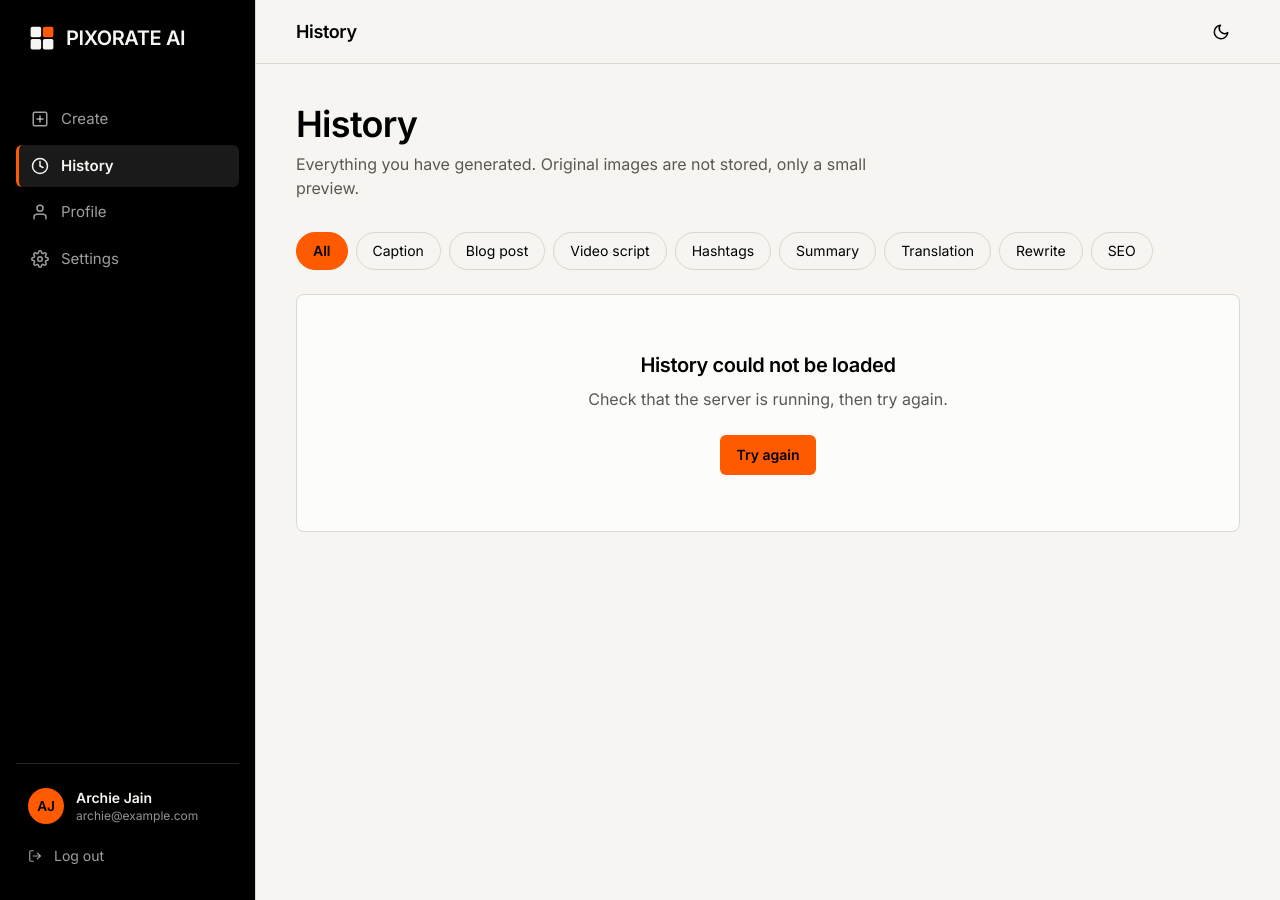
Test: history › a failed load offers a retry
The image size is (1280, 900).
Click the button "Try again": x=768, y=455 [720, 435, 816, 475]
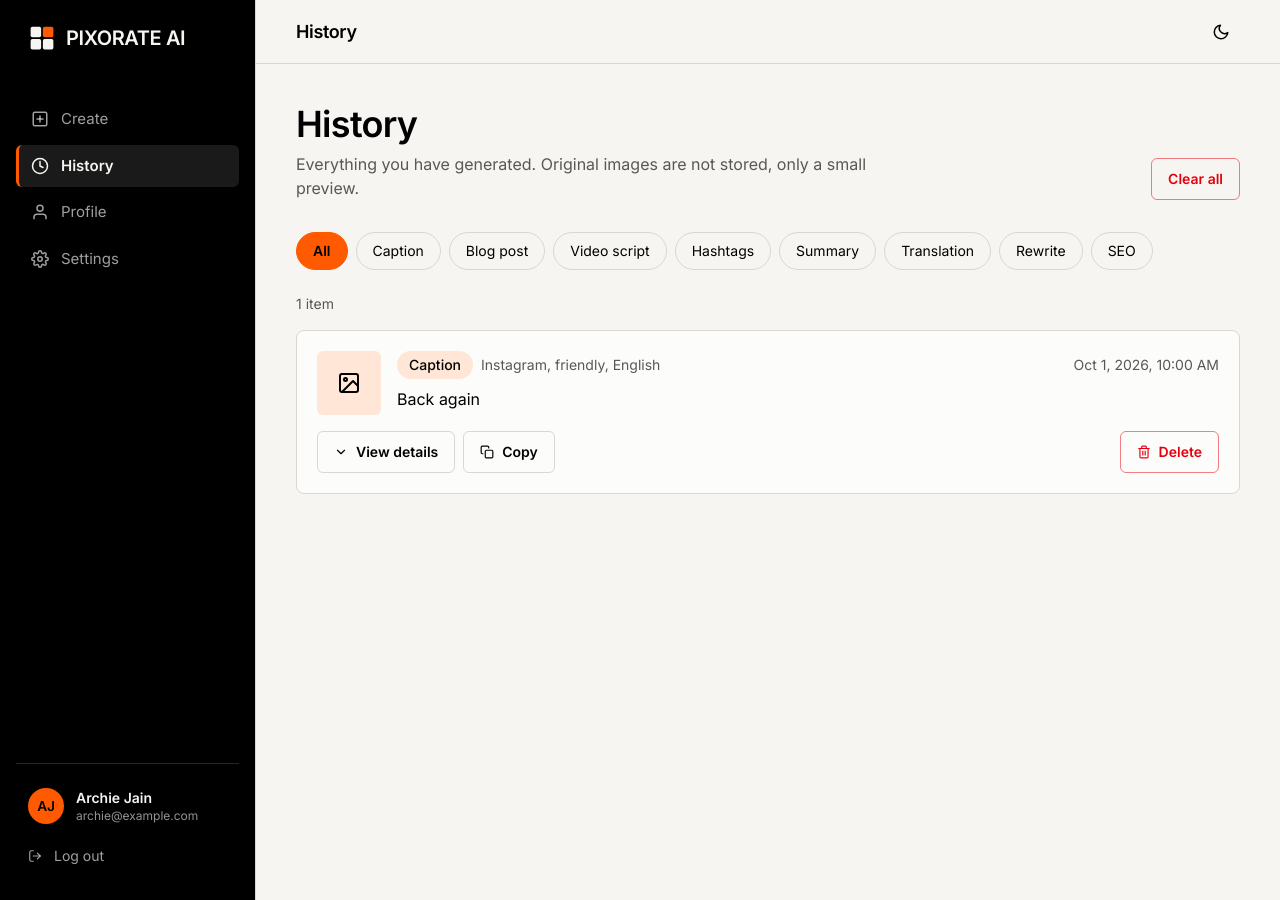
Result: the text "Back again" is shown at [397, 389, 480, 409]
